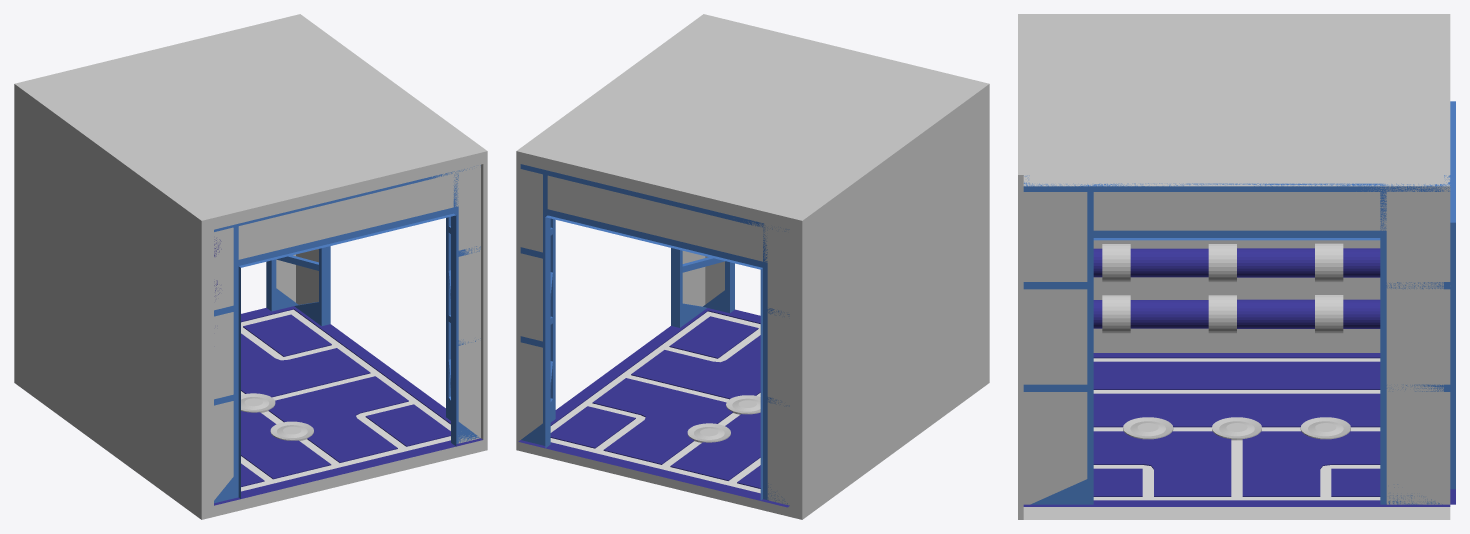
The model's file is Corridor3Door.fbx.
3 views of the same model, side by side, from view 1: azimuth 30°, elevation 25°; view 2: azimuth 150°, elevation 25°; view 3: azimuth 270°, elevation 25° (orthographic). The views are drawn at different scales.
Parts seen in each view (by area): view 1: Cube; view 2: Cube; view 3: Cube.
Part boxes in pixels (box(x1,y1,x2,y2)): Cube: box(14, 14, 487, 519); Cube: box(516, 14, 989, 519); Cube: box(1018, 14, 1455, 519).
Bounding box in the file's own units: 672 × 672 × 773.
